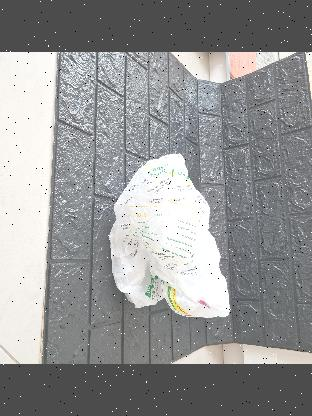Others: (107, 152, 231, 320)
